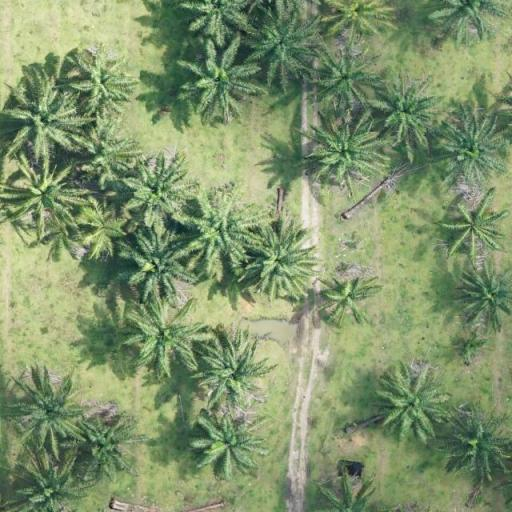Ganoderma: (13, 172, 70, 224), (449, 204, 499, 249), (326, 274, 371, 318), (334, 2, 384, 36)
